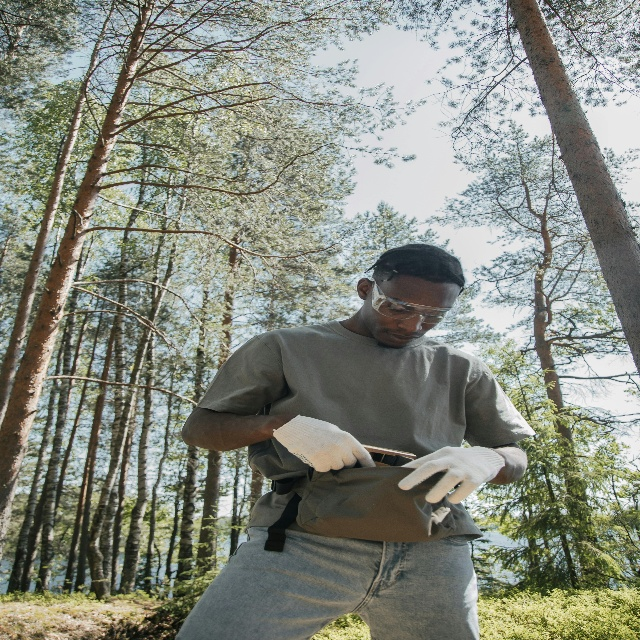Gafas: (373, 290, 458, 323)
Guantes: (400, 436, 507, 515), (276, 413, 375, 476)
